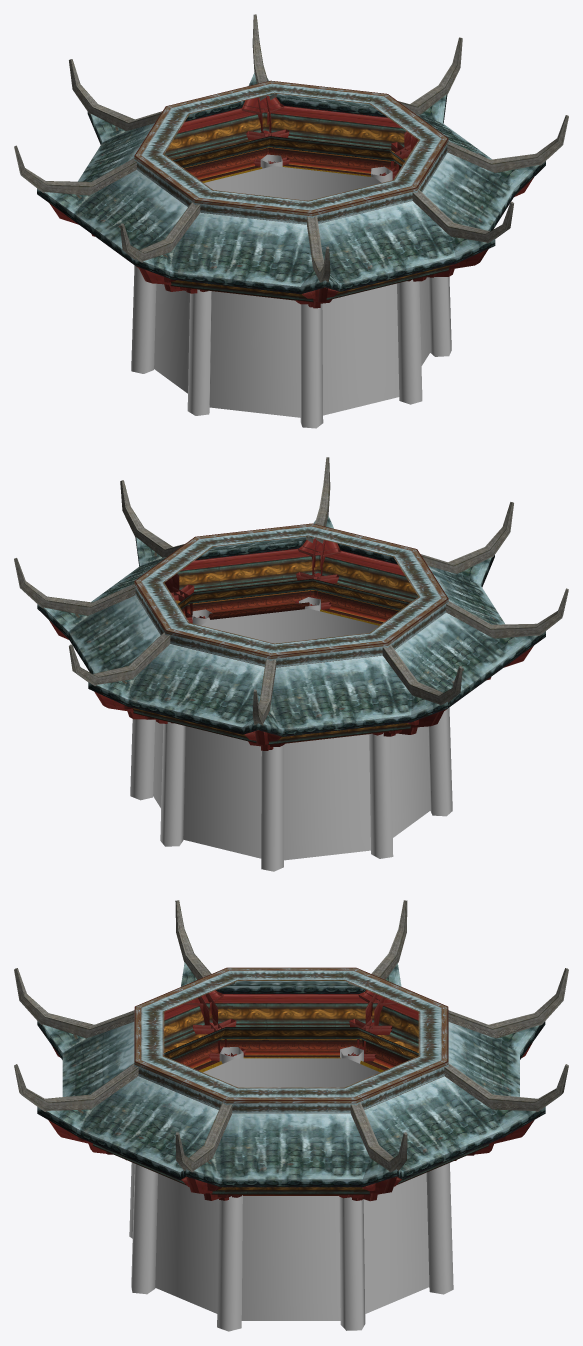
File: environment_Building_bingta_001_a.FBX
3 renders of one model, top to bottom at view 1: azimuth 30°, elevation 25°; view 2: azimuth 150°, elevation 25°; view 3: azimuth 270°, elevation 25°, orthographic. The views are drawn at different scales.
Parts seen in each view (by area): view 1: environment_Building_bingta_001_b1, environment_Building_bingta_001_e1, environment_Building_bingta_001_a1, environment_Building_bingta_001_d1, environment_Building_bingta_001_c1; view 2: environment_Building_bingta_001_b1, environment_Building_bingta_001_e1, environment_Building_bingta_001_a1, environment_Building_bingta_001_d1, environment_Building_bingta_001_c1; view 3: environment_Building_bingta_001_b1, environment_Building_bingta_001_e1, environment_Building_bingta_001_a1, environment_Building_bingta_001_d1, environment_Building_bingta_001_c1.
Boxes of the visible parts, x1,y1,x2,y2 form: environment_Building_bingta_001_b1: (37, 72, 545, 308); environment_Building_bingta_001_e1: (154, 166, 430, 417); environment_Building_bingta_001_a1: (134, 80, 448, 300); environment_Building_bingta_001_d1: (131, 154, 451, 428); environment_Building_bingta_001_c1: (14, 14, 568, 282); environment_Building_bingta_001_b1: (37, 516, 545, 750); environment_Building_bingta_001_e1: (153, 608, 430, 860); environment_Building_bingta_001_a1: (134, 523, 448, 743); environment_Building_bingta_001_d1: (130, 597, 452, 871); environment_Building_bingta_001_c1: (14, 457, 568, 725); environment_Building_bingta_001_b1: (37, 962, 545, 1201); environment_Building_bingta_001_e1: (155, 1058, 429, 1320); environment_Building_bingta_001_a1: (134, 967, 448, 1195); environment_Building_bingta_001_d1: (129, 1046, 453, 1331); environment_Building_bingta_001_c1: (14, 900, 568, 1172).
Bounding box in the file's own units: 212 × 104 × 212.
